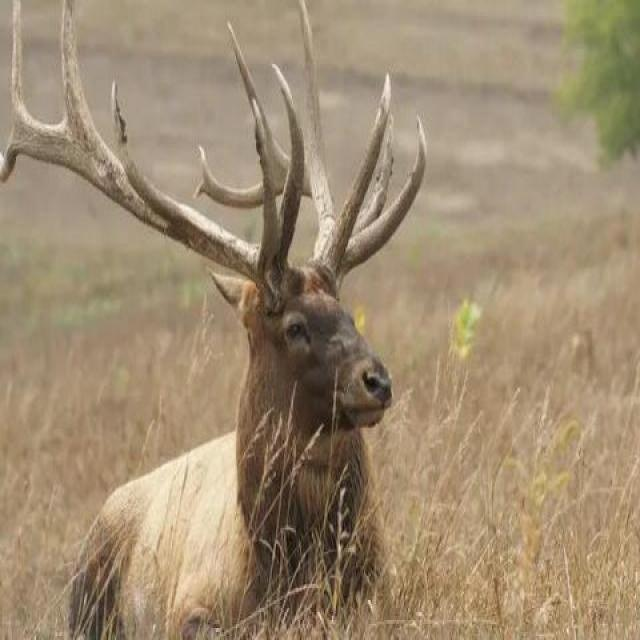deer: (104, 68, 482, 640)
